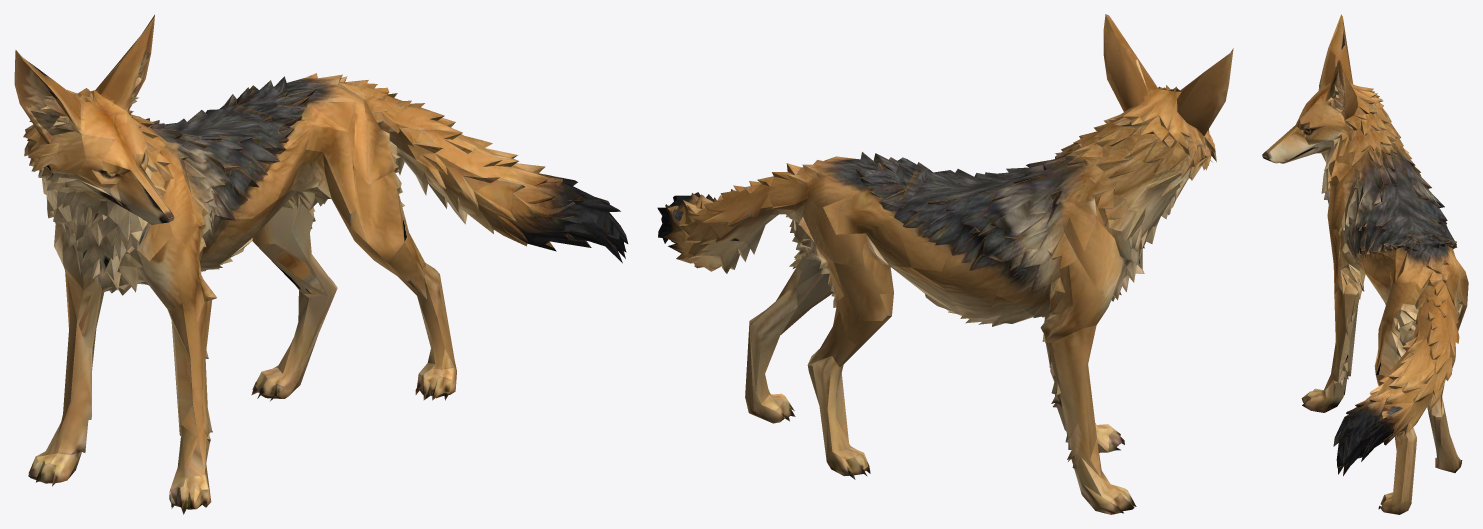
Rendered from jackal.glb.
The picture shows the model from 3 angles, left to right: view 1: azimuth 30°, elevation 25°; view 2: azimuth 150°, elevation 25°; view 3: azimuth 270°, elevation 25°; orthographic projection. The views are drawn at different scales.
Size of the model in its own units: 1.88 by 1.42 by 0.7802.
Materials: 1 (1 with a texture image).
